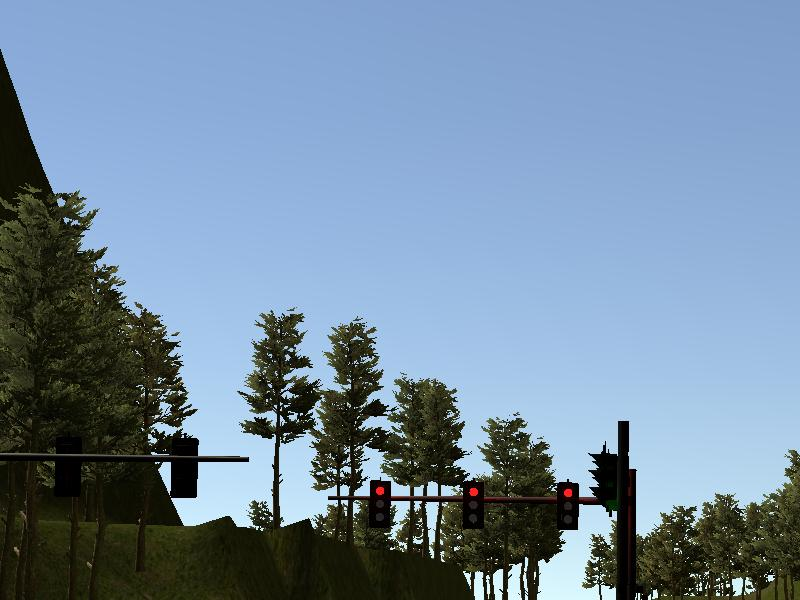Red: (557, 482, 579, 531), (370, 480, 391, 527), (463, 481, 483, 529)
